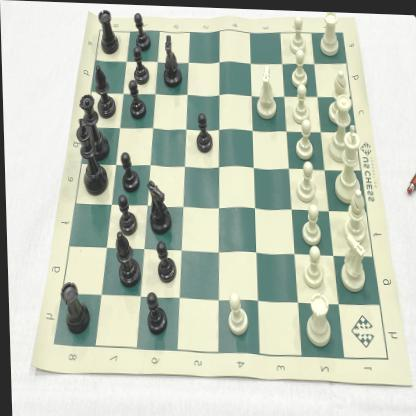black-bishop: (114, 233, 140, 286), (94, 63, 115, 119)
black-king: (74, 117, 107, 195)
black-knight: (146, 176, 173, 235), (162, 32, 183, 88)
black-pawn: (154, 238, 176, 283), (144, 291, 167, 333), (115, 192, 136, 235), (194, 110, 213, 153), (120, 149, 139, 190), (134, 9, 152, 50), (128, 79, 146, 118), (132, 46, 150, 84)
black-queen: (77, 92, 108, 160)
black-rook: (57, 277, 89, 335), (97, 7, 119, 54)
white-bishop: (341, 185, 365, 241), (326, 66, 349, 121)
white-king: (333, 120, 362, 201)
white-knight: (337, 227, 367, 290), (252, 59, 278, 122)
white-pawn: (298, 202, 324, 247), (301, 244, 326, 287), (291, 117, 316, 158), (224, 291, 246, 335), (294, 158, 317, 200), (287, 48, 310, 86), (291, 82, 313, 121), (289, 13, 306, 53)
white-queen: (327, 90, 353, 160)
white-rook: (304, 289, 331, 344), (318, 9, 341, 55)
